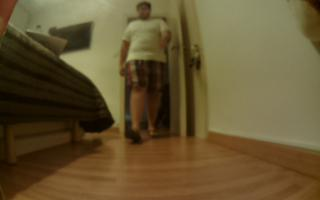person: (111, 1, 180, 146)
